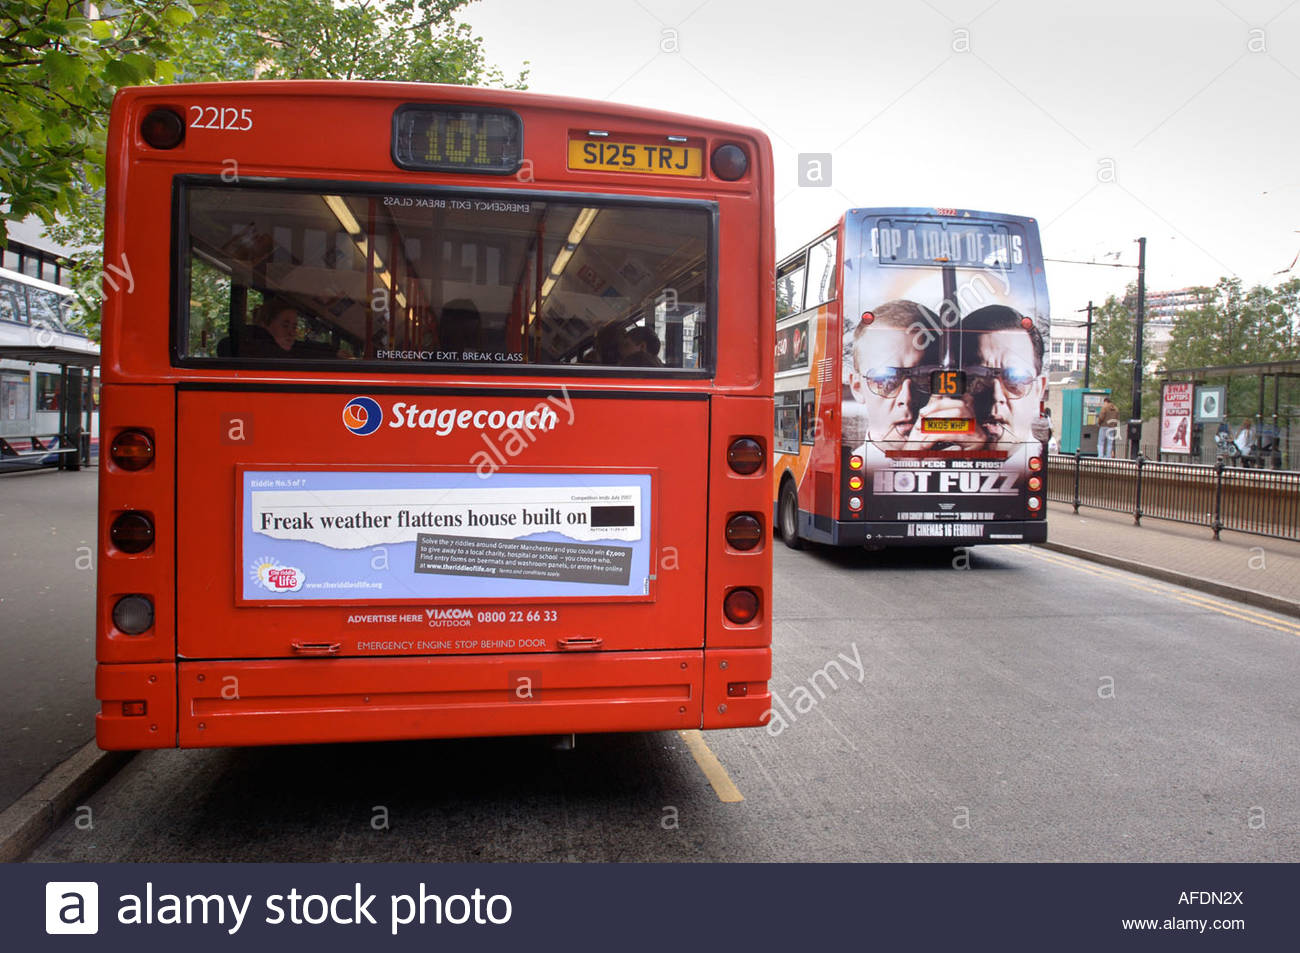bus: (92, 75, 781, 742), (783, 206, 1058, 552)
